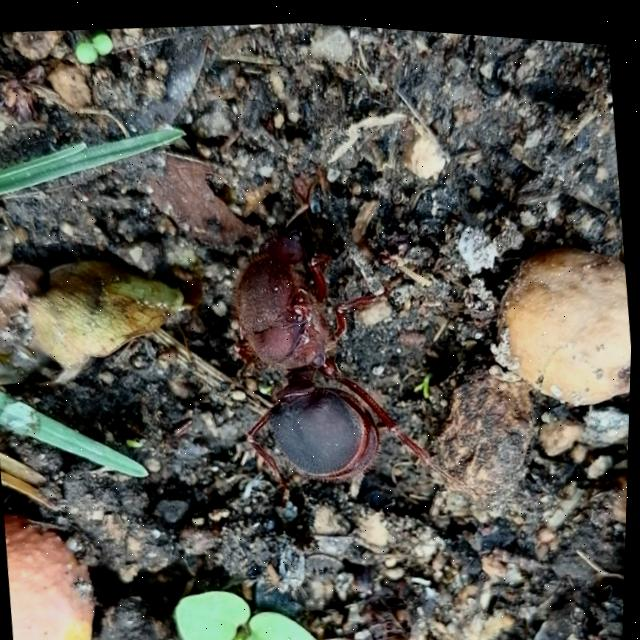Alive-Female-Dealate: (215, 177, 489, 521)
